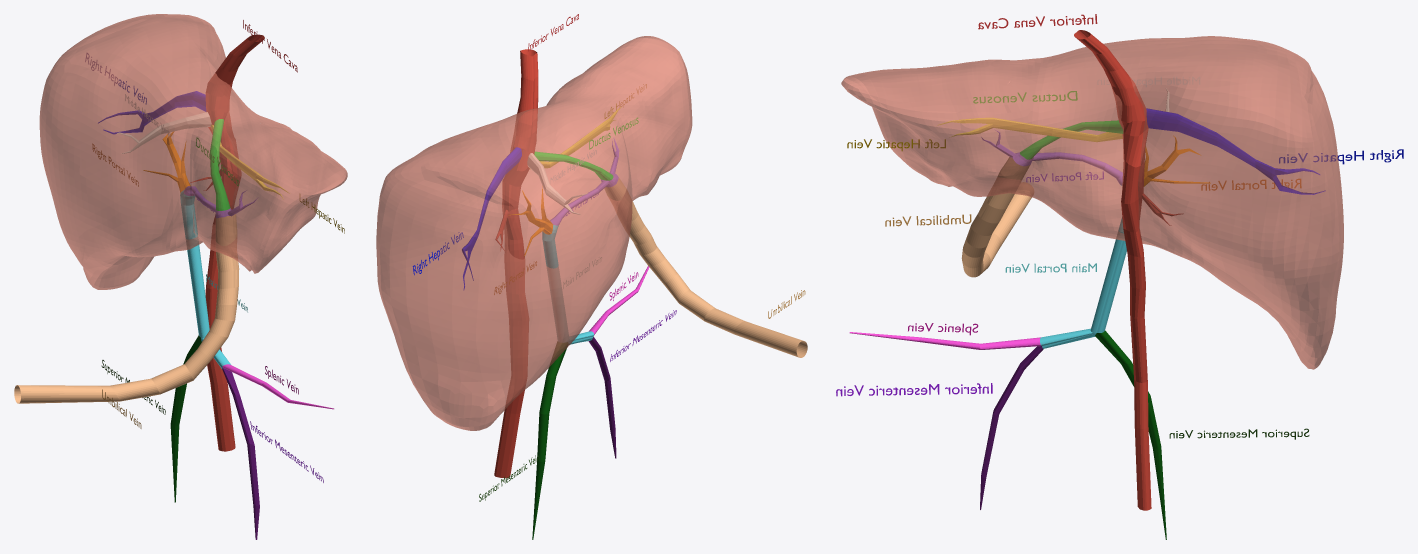
The model's file is Fullliver.glb.
The picture shows the model from 3 angles, left to right: view 1: azimuth 30°, elevation 25°; view 2: azimuth 150°, elevation 25°; view 3: azimuth 270°, elevation 25°; orthographic projection. The views are drawn at different scales.
Visible parts, largest first — view 1: LIVER, VEINS.001; view 2: LIVER, VEINS.001; view 3: LIVER, VEINS.001, Text.001.
Boxes of the visible parts, x1,y1,x2,y2 form: LIVER: (39,14,347,289); VEINS.001: (14,34,333,539); LIVER: (376,36,692,430); VEINS.001: (462,49,807,539); LIVER: (841,36,1343,369); VEINS.001: (849,30,1325,539); Text.001: (836,383,992,396).
Bounding box in the file's own units: 52.32 × 76.03 × 71.76.
